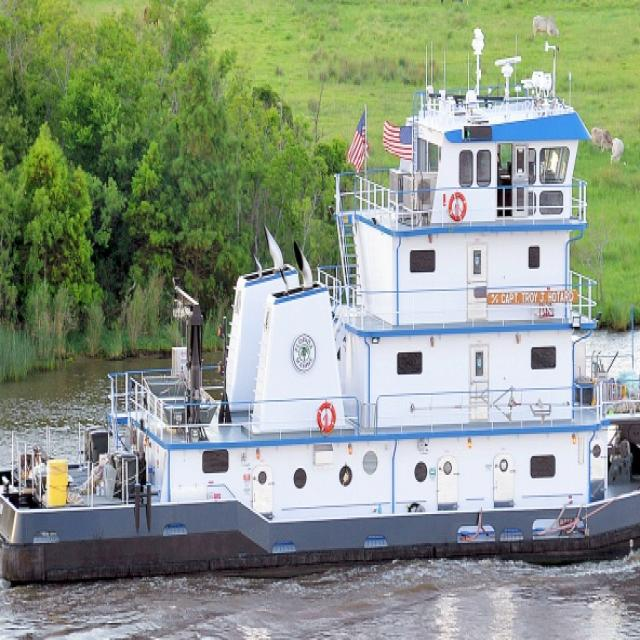tugboat: (1, 27, 640, 600)
